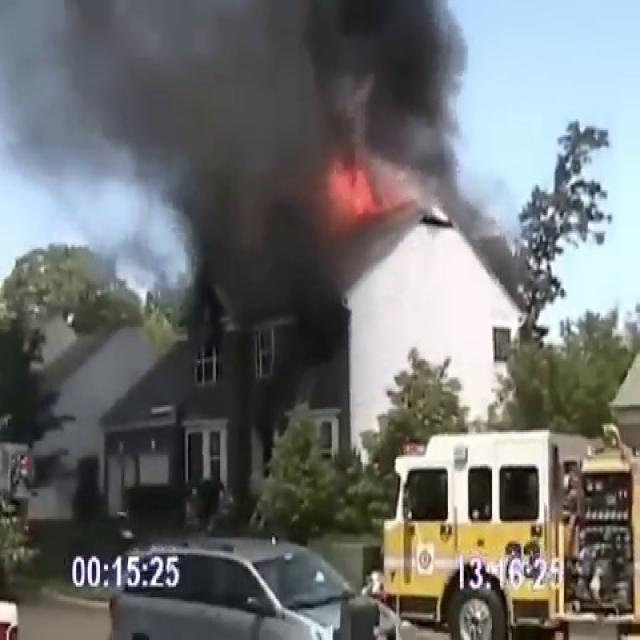Smoke: (2, 0, 510, 361)
